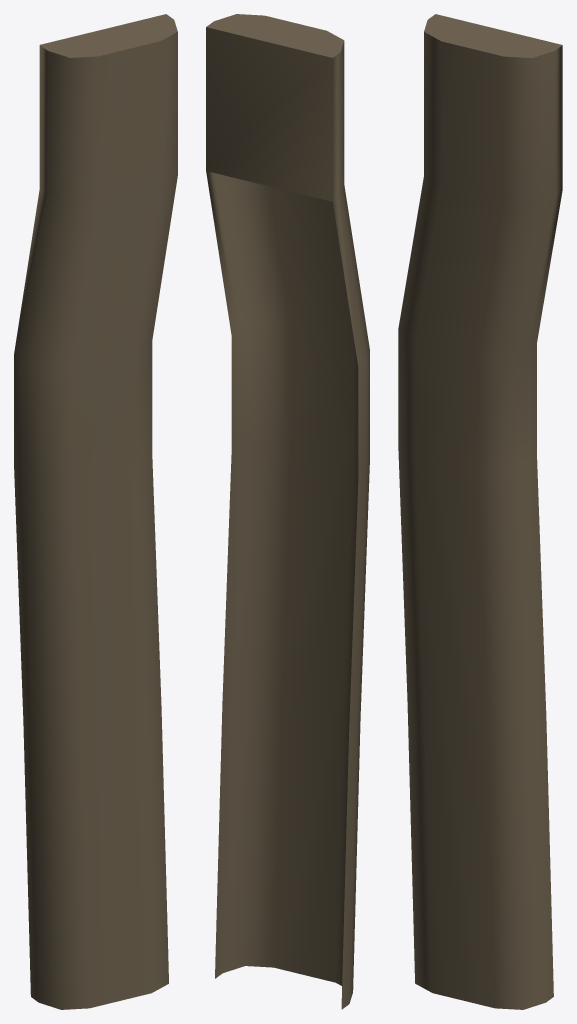
File: SM_Beam02.fbx
3 renders of one model, left to right at view 1: azimuth 30°, elevation 25°; view 2: azimuth 150°, elevation 25°; view 3: azimuth 330°, elevation 25°, orthographic.
Parts seen in each view (by area): view 1: pCube7; view 2: pCube7; view 3: pCube7.
Boxes of the visible parts, x1=… form: pCube7: x1=14, y1=14, x2=177, y2=1009; pCube7: x1=206, y1=14, x2=369, y2=1009; pCube7: x1=398, y1=14, x2=562, y2=1009.
Size of the model in its own units: 49.42 by 295 by 14.88.
